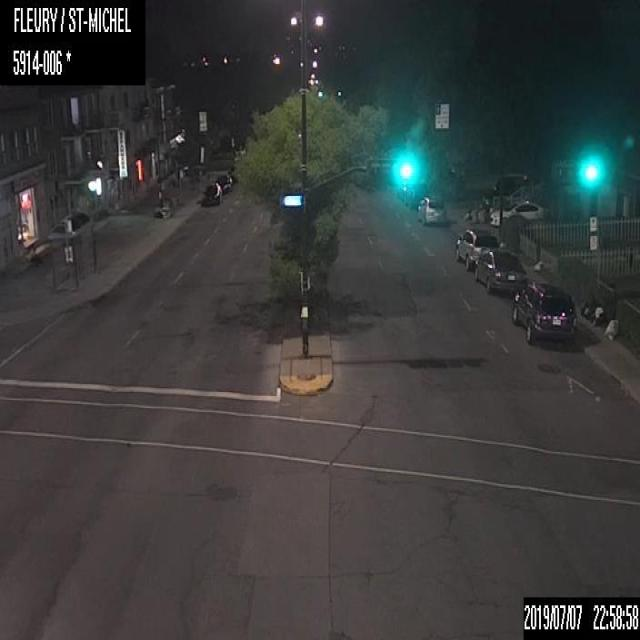vehicle: (509, 280, 576, 344), (474, 246, 526, 295), (454, 226, 496, 272), (488, 199, 544, 226), (416, 195, 444, 224), (200, 180, 222, 204), (215, 170, 232, 193)
